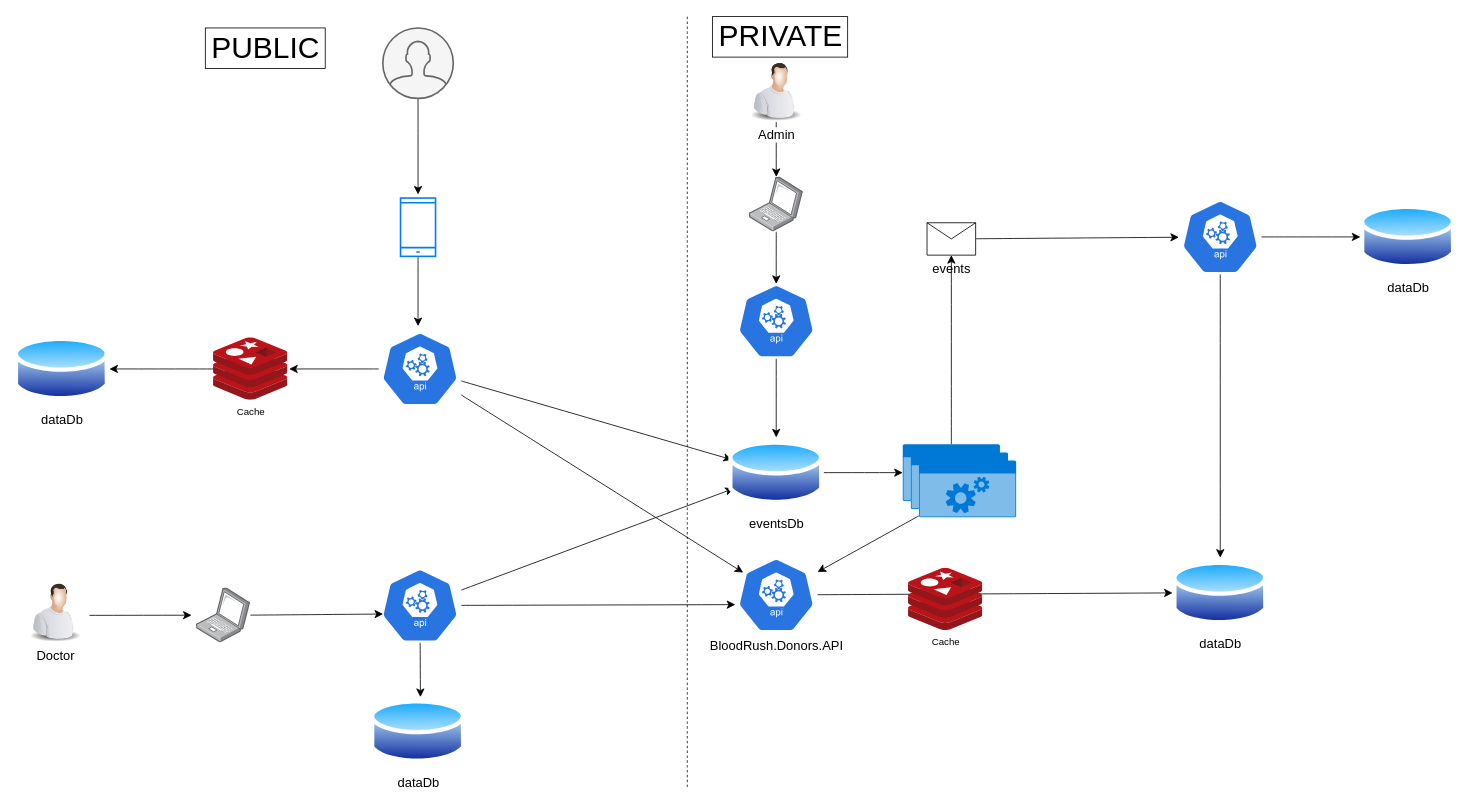
The diagram is 1469 pixels wide and 804 high, and some of its shapes have lost their labels. Each missing label, with the centre of its shape:
BloodRush.EventsAgregator: (776,320)
BloodRush.Facility.API: (419,605)
BloodRush.Mobile.API: (419,368)
BloodRush.Notifier: (1220,236)
Donor: (418,63)
EventPublisher: (967,488)
